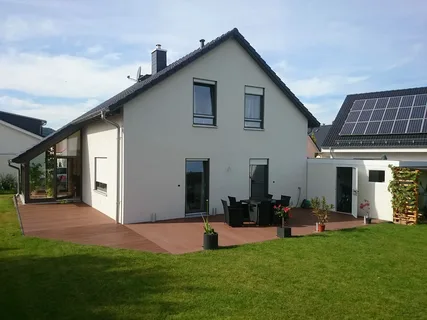private_hause: (21, 27, 321, 218)
